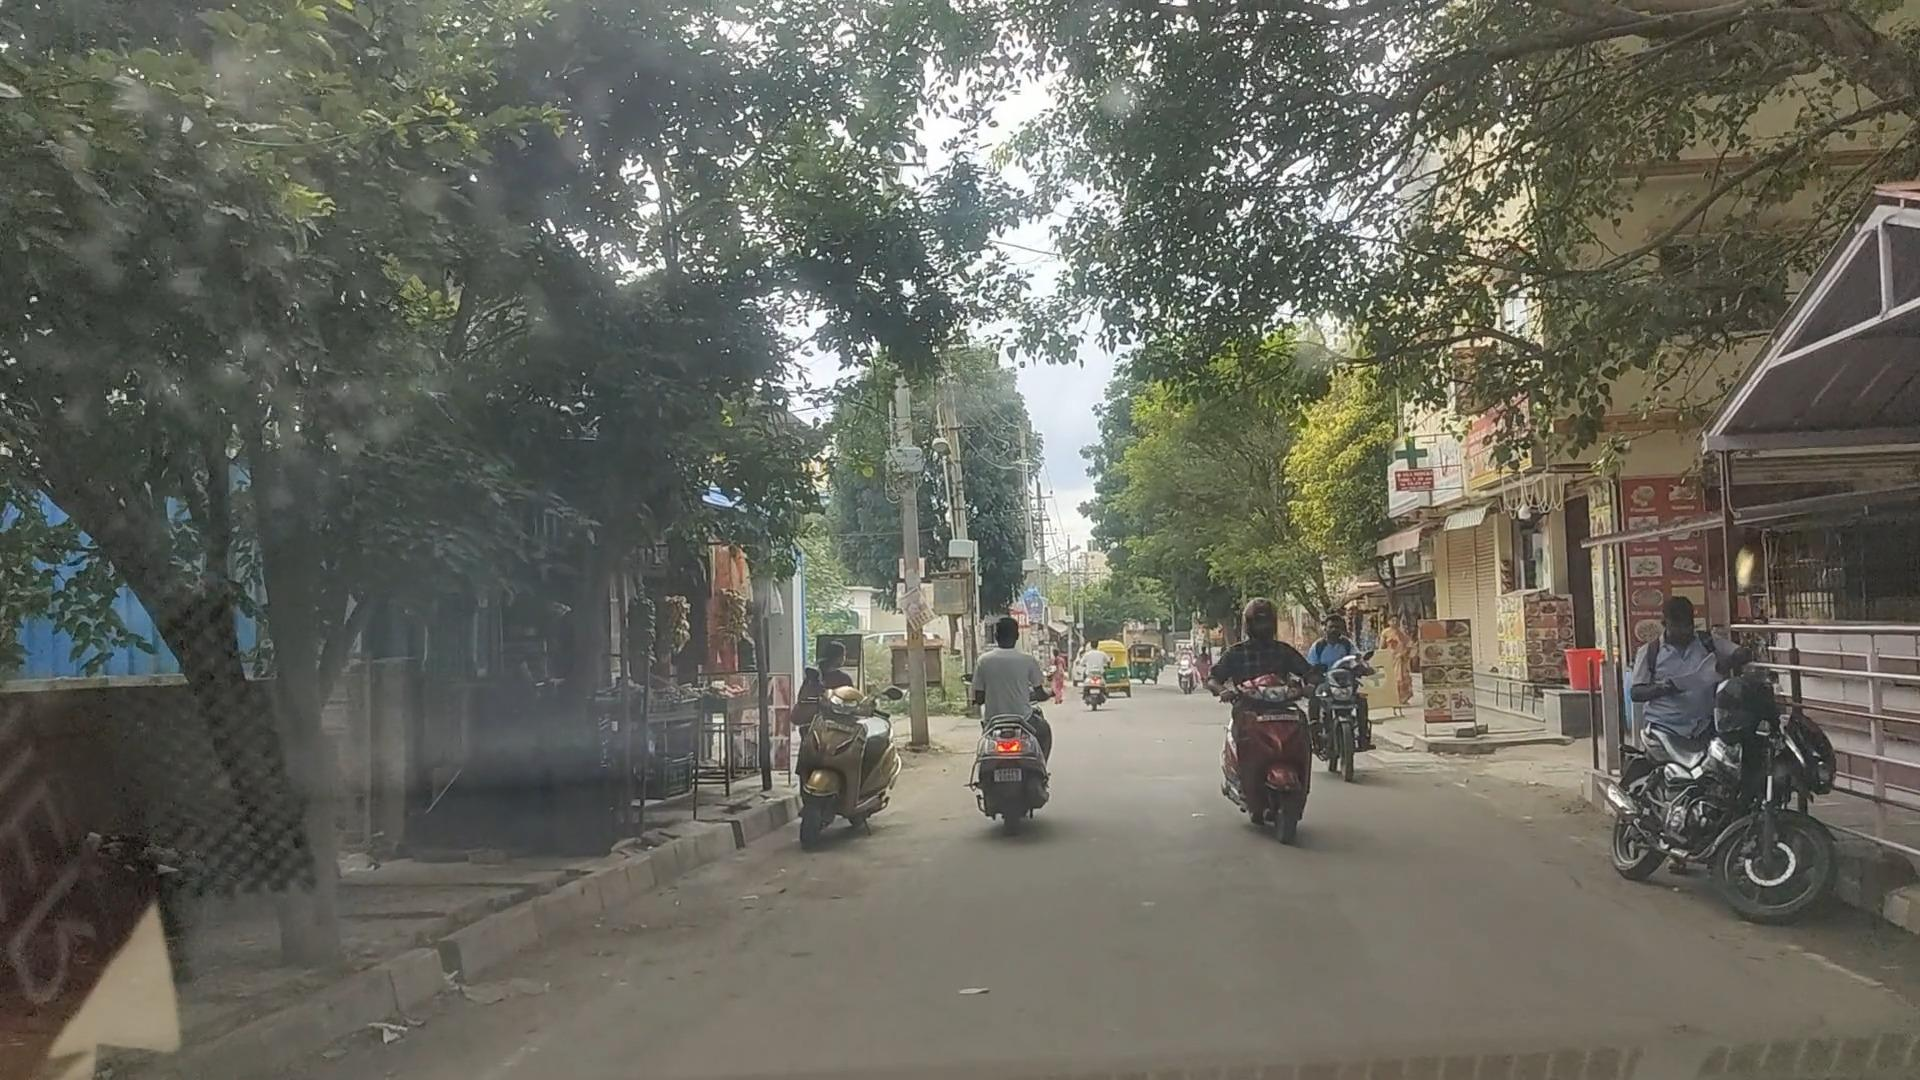LMV: (1610, 584, 1837, 932), (1201, 589, 1329, 862), (948, 596, 1067, 864), (778, 644, 905, 860)
